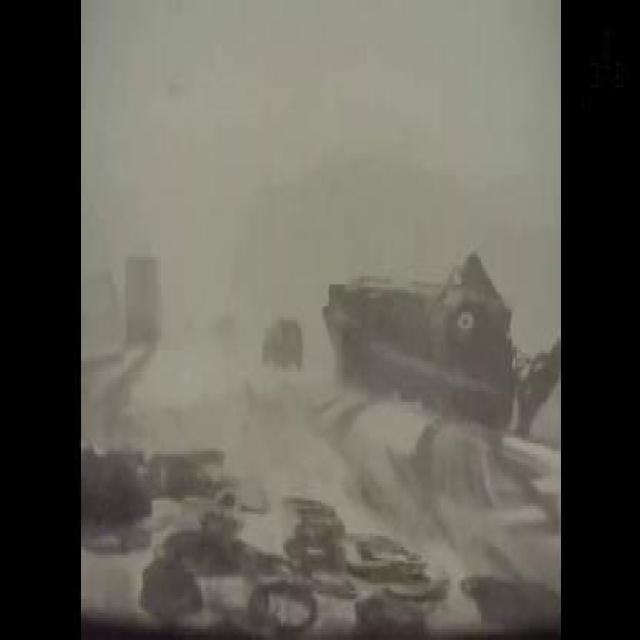accident: (320, 238, 518, 429)
